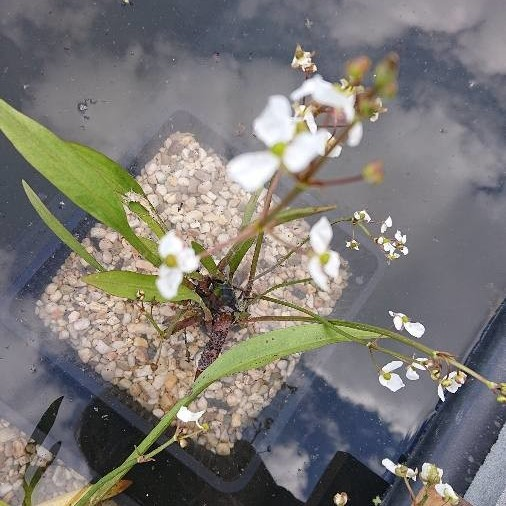obstacle: (16, 52, 423, 472)
